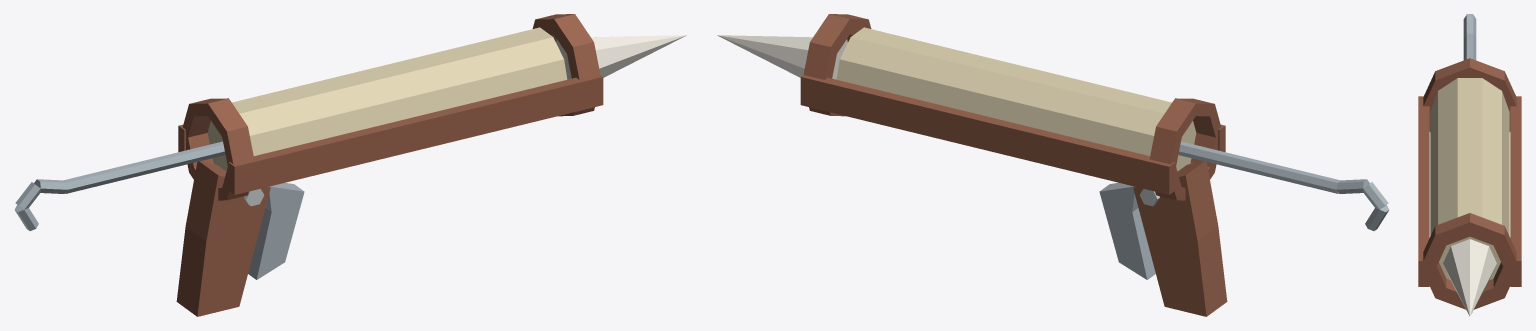
The model's file is b06_caulking_gun.glb.
3 renders of one model, left to right at view 1: azimuth 30°, elevation 25°; view 2: azimuth 150°, elevation 25°; view 3: azimuth 270°, elevation 25°, orthographic. The views are drawn at different scales.
Visible parts, largest first — view 1: b06_caulking_gun; view 2: b06_caulking_gun; view 3: b06_caulking_gun.
Boxes of the visible parts, x1,y1,x2,y2 form: b06_caulking_gun: (14, 14, 686, 316); b06_caulking_gun: (717, 14, 1389, 316); b06_caulking_gun: (1418, 14, 1521, 316).
Bounding box in the file's own units: 0.448 × 0.128 × 0.065.
